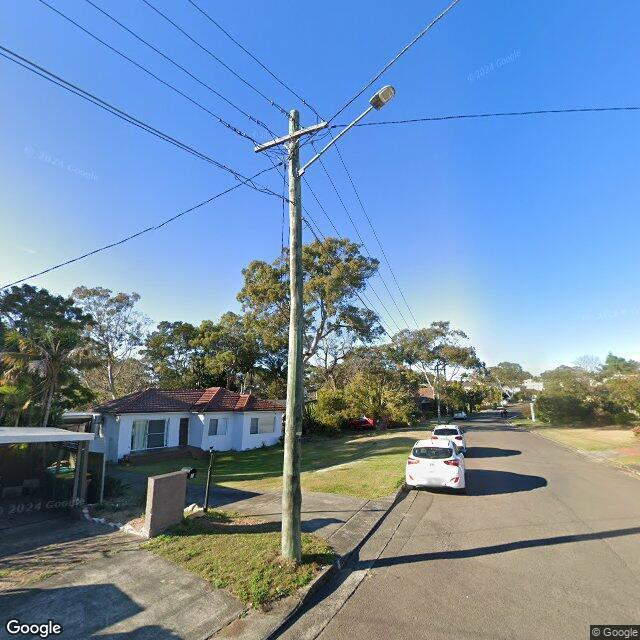crossarm: (253, 119, 331, 153), (430, 369, 446, 370)
streetlight: (298, 84, 398, 178)
timber-pole: (280, 110, 304, 564), (436, 362, 441, 425)
